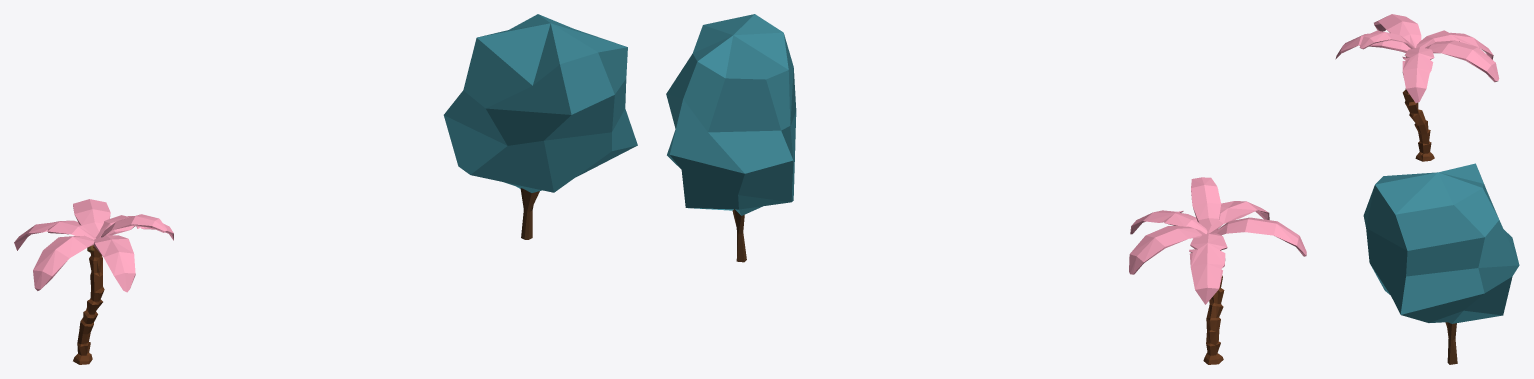
The model's file is Purple city.fbx.
The picture shows the model from 3 angles, left to right: view 1: azimuth 30°, elevation 25°; view 2: azimuth 150°, elevation 25°; view 3: azimuth 270°, elevation 25°; orthographic projection. The views are drawn at different scales.
Visible parts, largest first — view 1: Tree_PROXY.002, Low Poly Multicolor Palm Tree.010; view 2: Tree_PROXY.002, Low Poly Multicolor Palm Tree.010; view 3: Tree_PROXY.002, Low Poly Multicolor Palm Tree.010.
Part boxes in pixels (bbox=[...]): Tree_PROXY.002: bbox=[443, 14, 637, 239]; Low Poly Multicolor Palm Tree.010: bbox=[14, 199, 173, 364]; Tree_PROXY.002: bbox=[666, 14, 796, 262]; Low Poly Multicolor Palm Tree.010: bbox=[1129, 177, 1306, 364]; Tree_PROXY.002: bbox=[1363, 163, 1519, 364]; Low Poly Multicolor Palm Tree.010: bbox=[1335, 14, 1499, 161].
Size of what is drawn, in the model's own units: 1886 by 637 by 537.
